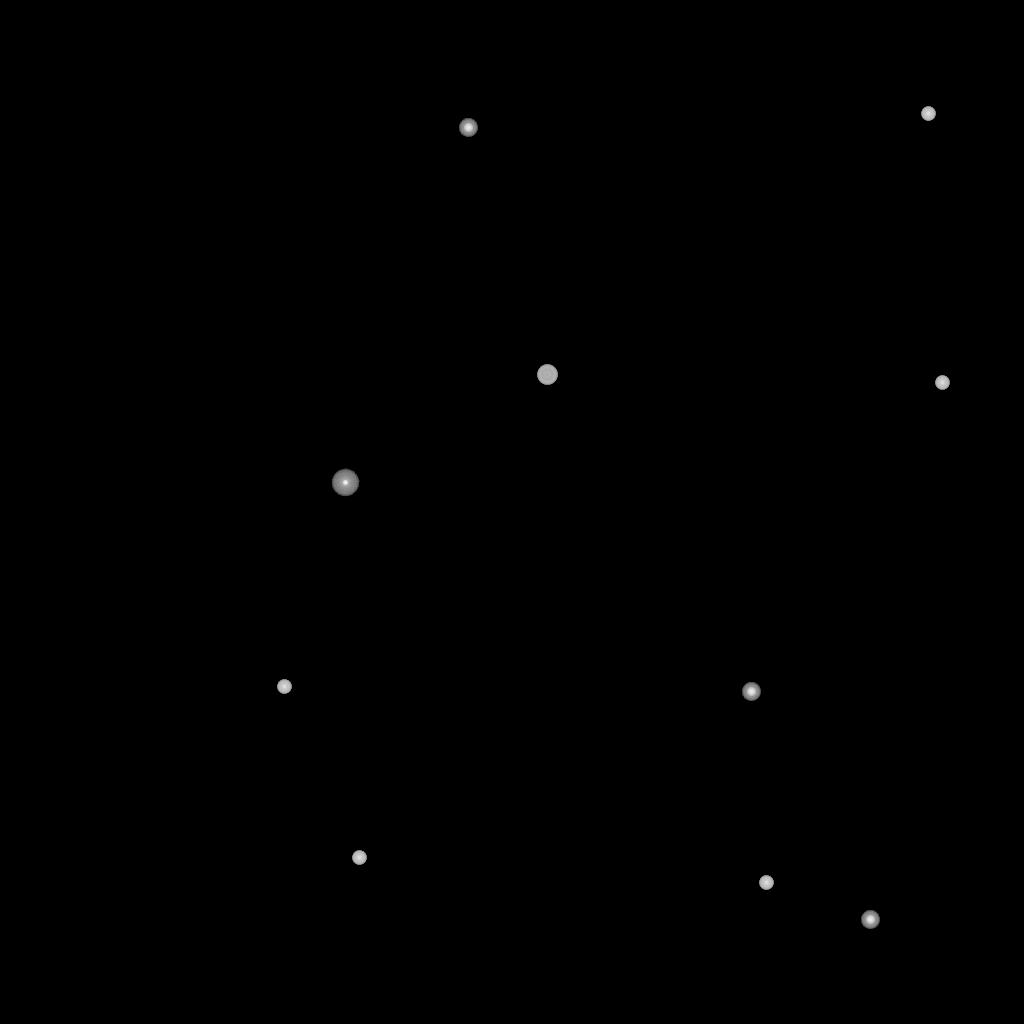depth:-10: (331, 469, 359, 497)
depth:-20: (742, 683, 760, 701), (459, 119, 477, 137), (861, 911, 879, 929)
depth:-30: (759, 876, 773, 890), (352, 851, 366, 865), (921, 107, 935, 121), (935, 376, 949, 390), (277, 680, 291, 694)
depth:-40: (537, 365, 557, 385)
